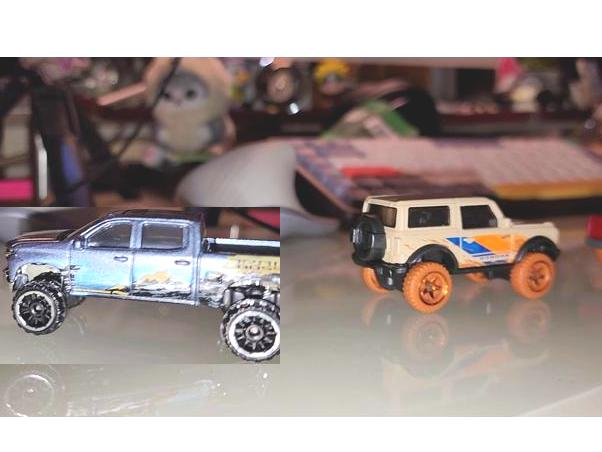toy-car: (0, 207, 280, 364), (348, 189, 564, 314)
